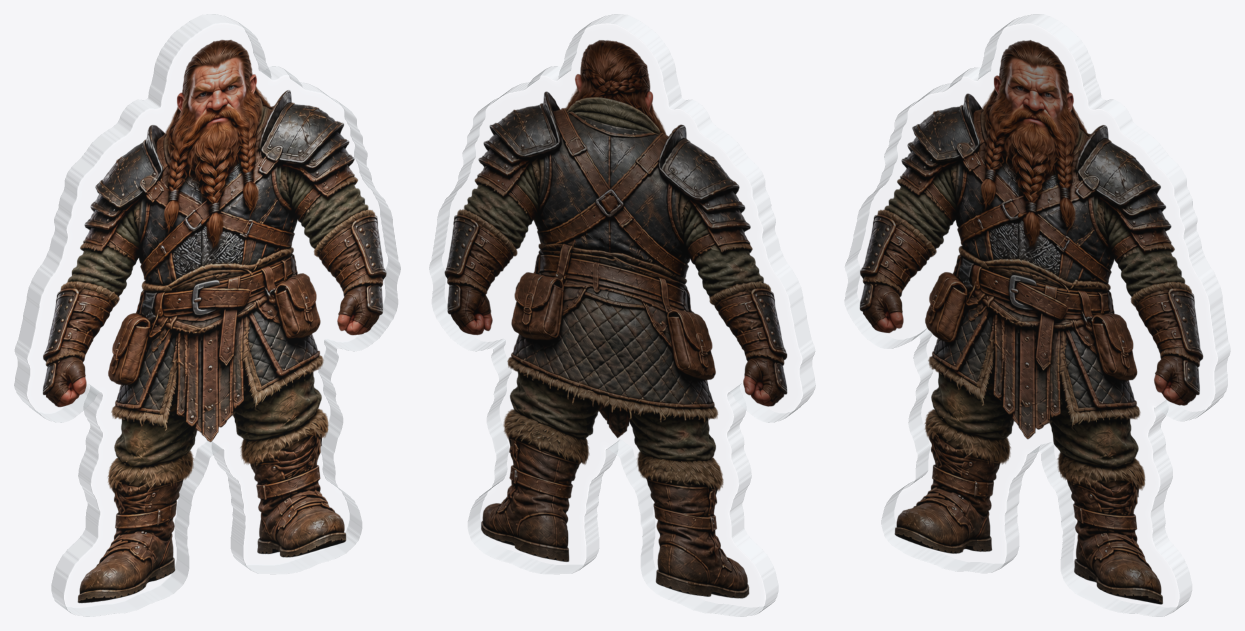
File: brom-empty.glb
The picture shows the model from 3 angles, left to right: view 1: azimuth 30°, elevation 25°; view 2: azimuth 150°, elevation 25°; view 3: azimuth 330°, elevation 25°; orthographic projection.
Visible parts, largest first — view 1: preview_standee.001; view 2: preview_standee.001; view 3: preview_standee.001.
Part boxes in pixels (bbox=[...]): preview_standee.001: bbox=[14, 14, 400, 616]; preview_standee.001: bbox=[429, 14, 815, 616]; preview_standee.001: bbox=[844, 14, 1230, 616].
Size of the model in its own units: 0.6586 by 0.9554 by 0.04.
3 materials, 2 textured.
